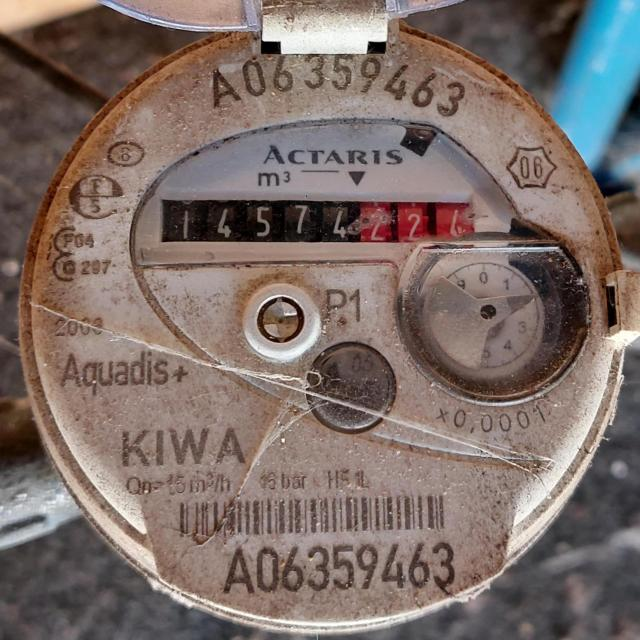gaz_meter: (30, 19, 620, 616)
indication: (159, 199, 472, 242)
